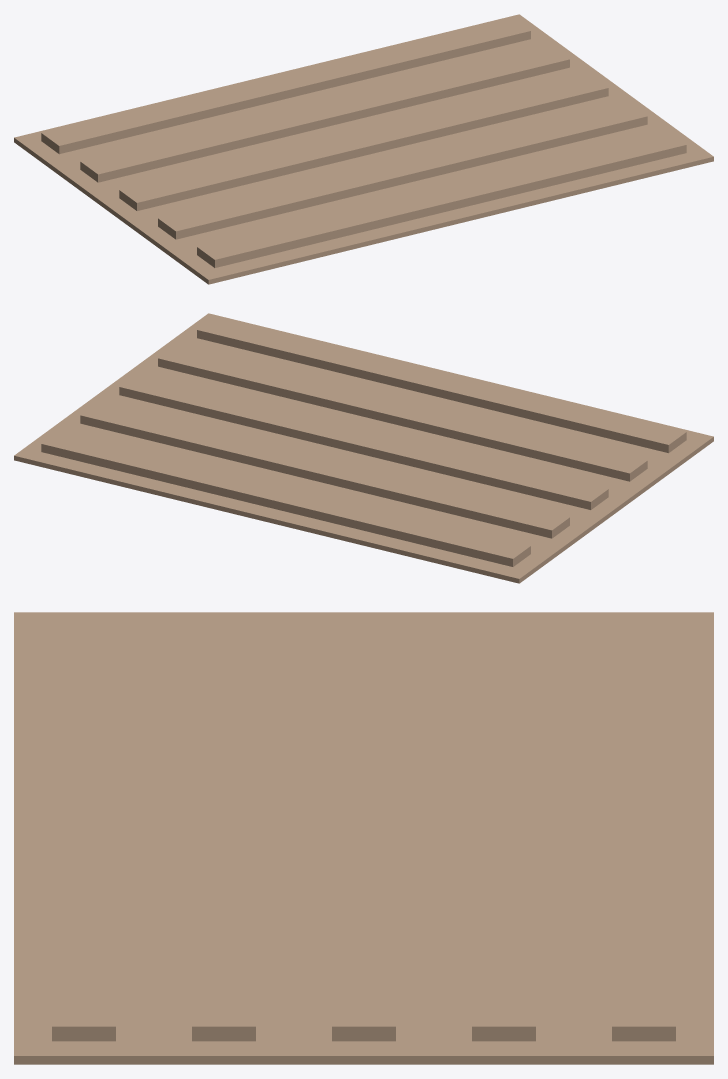
The model's file is field-cut.glb.
3 renders of one model, top to bottom at view 1: azimuth 30°, elevation 25°; view 2: azimuth 150°, elevation 25°; view 3: azimuth 270°, elevation 25°, orthographic. The views are drawn at different scales.
Parts seen in each view (by area): view 1: field-cut_soil; view 2: field-cut_soil; view 3: field-cut_soil.
Boxes of the visible parts, x1=… form: field-cut_soil: x1=14, y1=14, x2=713, y2=284; field-cut_soil: x1=14, y1=313, x2=713, y2=583; field-cut_soil: x1=14, y1=612, x2=713, y2=1064.
Bounding box in the file's own units: 3 × 0.0733 × 2.
